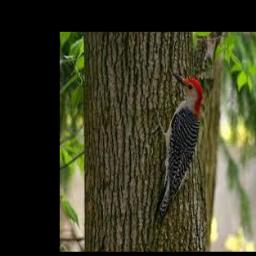Woodpecker: (151, 71, 203, 218)
